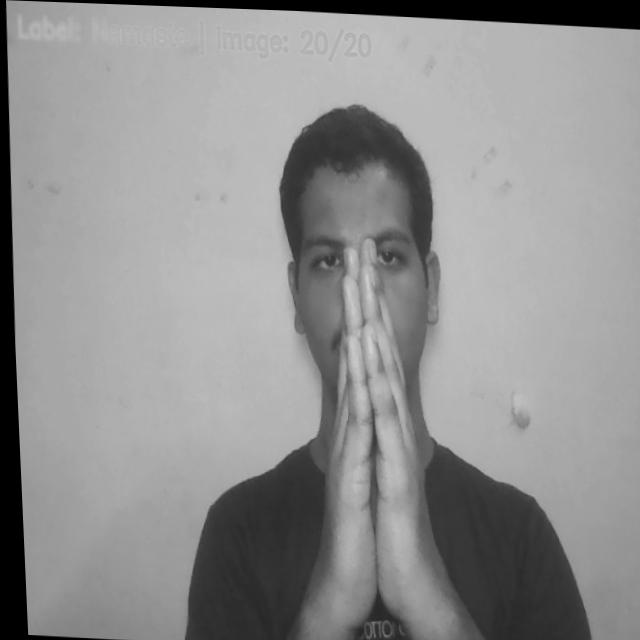Namaste: (319, 227, 413, 640)
